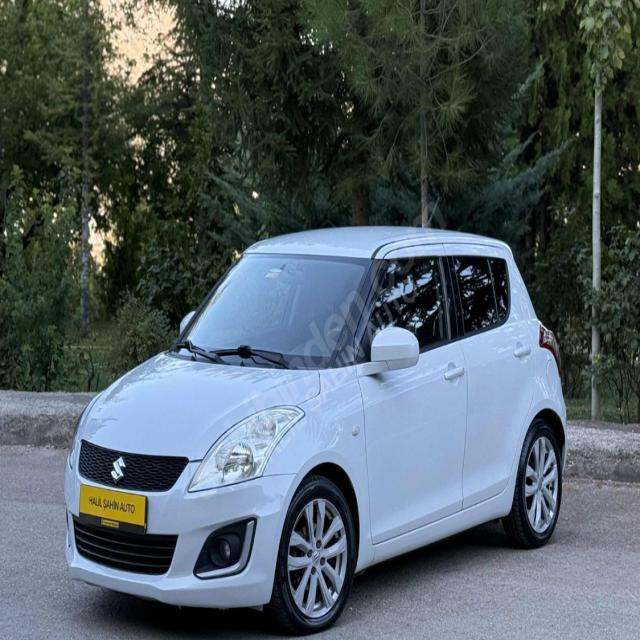suzuki: (109, 452, 126, 488)
